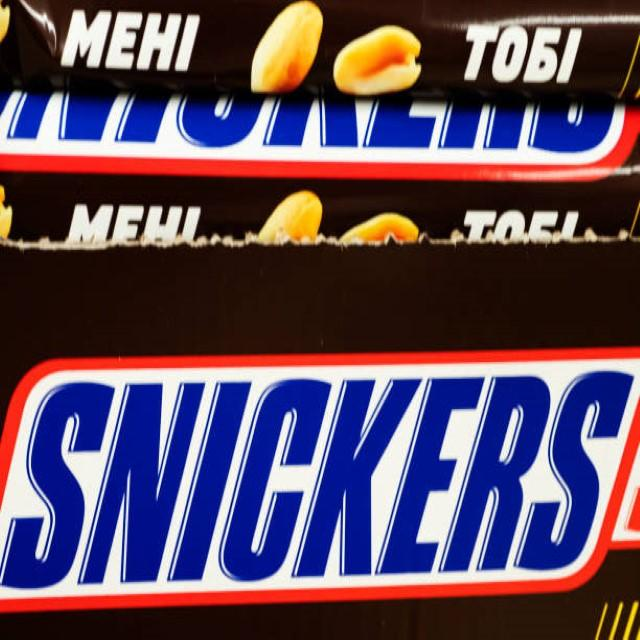snickers_chocolate: (36, 320, 640, 640)
